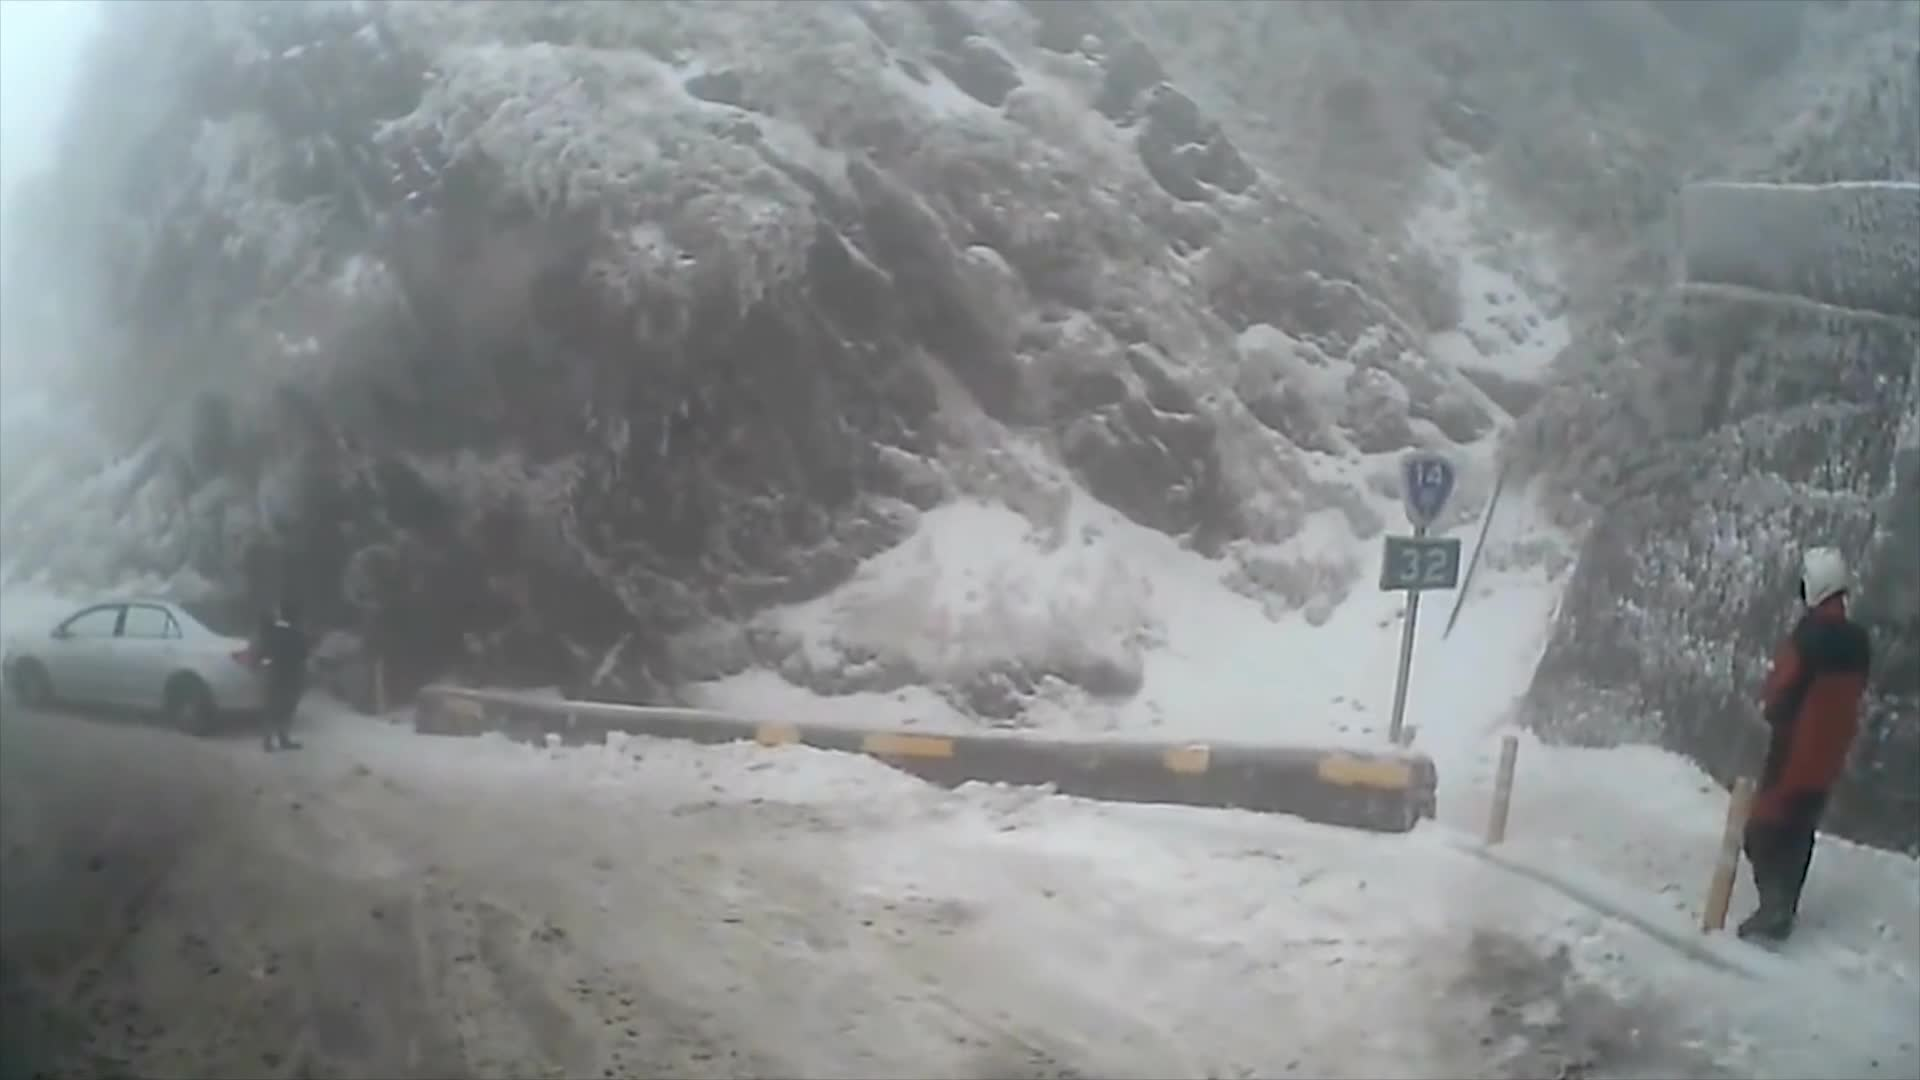pedestrian: (1733, 548, 1878, 942), (257, 598, 312, 753)
vehicle: (4, 596, 289, 737)
